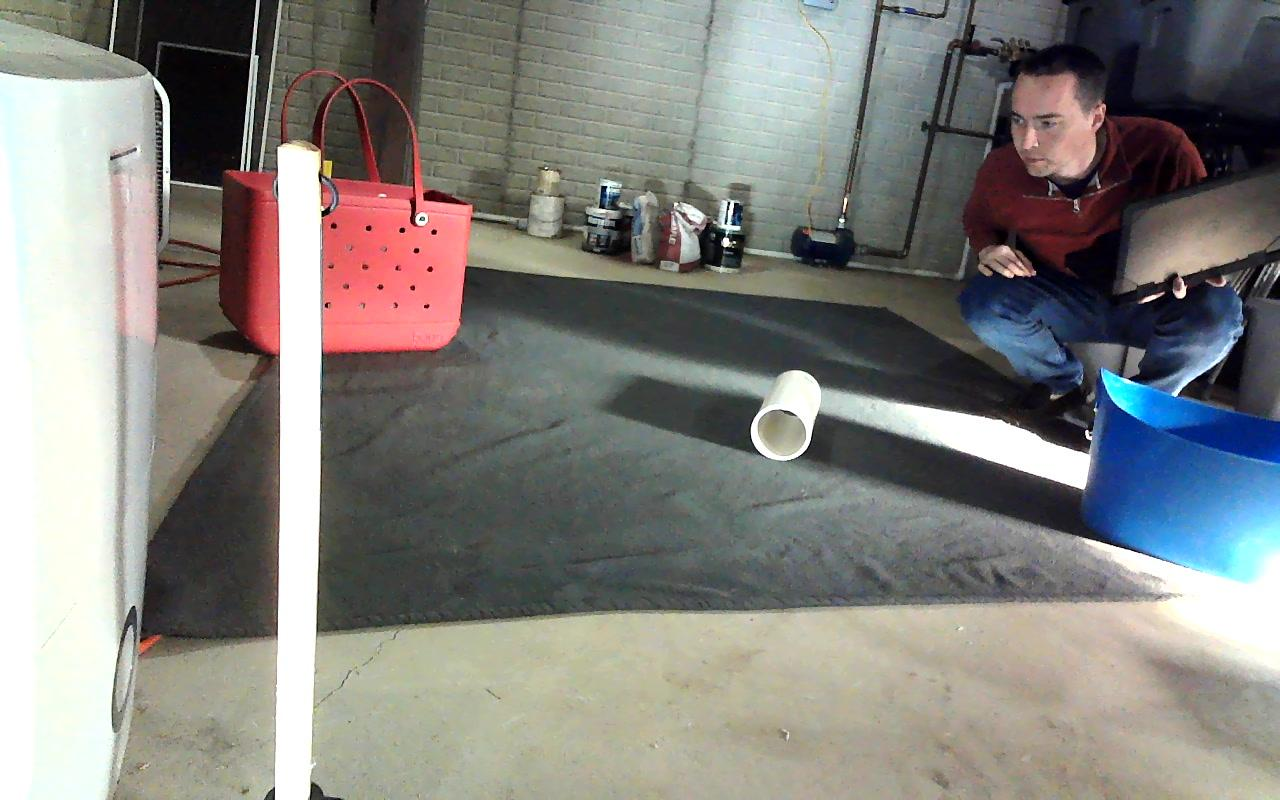coral: (750, 371, 821, 459)
